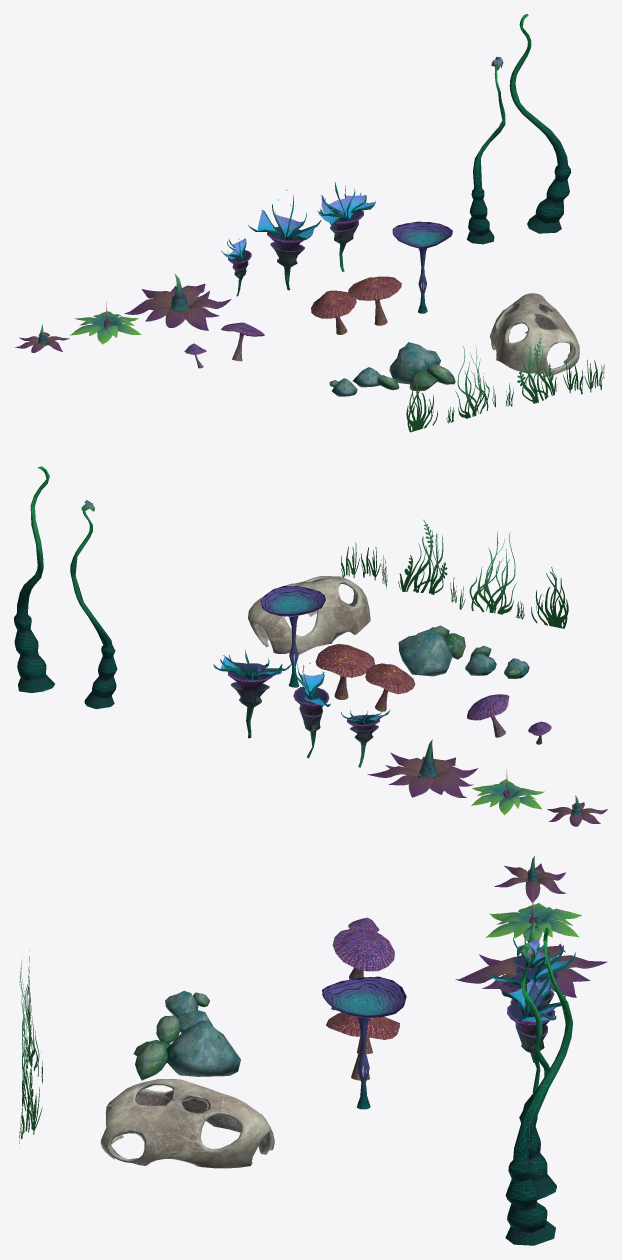
File: alienWorldExplorer.fbx
The picture shows the model from 3 angles, top to bottom: view 1: azimuth 30°, elevation 25°; view 2: azimuth 150°, elevation 25°; view 3: azimuth 270°, elevation 25°; orthographic projection. The views are drawn at different scales.
Parts seen in each view (by area): view 1: Rocks05, Plants09, Plants03, Rocks03, Plants05, Plants08, Plants06, Mushroom09, Mushroom08, Plants02, Grass03, Mushroom07 (+6 smaller); view 2: Rocks05, Plants09, Plants03, Rocks03, Plants08, Mushroom09, Plants06, Mushroom08, Plants05, Grass03, Grass02, Plants02 (+7 smaller); view 3: Rocks05, Plants09, Rocks03, Mushroom09, Plants06, Plants03, Mushroom04, Plants02, Plants08, Mushroom08, Plants01, Plants05 (+5 smaller).
Boxes of the visible parts, left/top/right/bottom form: Rocks05: left=489, top=293, right=579, bottom=376; Plants09: left=509, top=14, right=571, bottom=233; Plants03: left=124, top=273, right=231, bottom=330; Rocks03: left=389, top=342, right=455, bottom=390; Plants05: left=248, top=190, right=321, bottom=290; Plants08: left=467, top=57, right=505, bottom=244; Plants06: left=317, top=182, right=375, bottom=271; Mushroom09: left=392, top=221, right=452, bottom=313; Mushroom08: left=348, top=276, right=401, bottom=325; Plants02: left=70, top=302, right=141, bottom=344; Grass03: left=505, top=333, right=557, bottom=406; Mushroom07: left=311, top=290, right=356, bottom=334; Rocks05: left=248, top=576, right=370, bottom=654; Plants09: left=14, top=466, right=54, bottom=692; Plants03: left=367, top=739, right=477, bottom=797; Rocks03: left=398, top=625, right=465, bottom=676; Plants08: left=70, top=500, right=117, bottom=709; Mushroom09: left=260, top=586, right=325, bottom=687; Plants06: left=213, top=649, right=291, bottom=738; Mushroom08: left=315, top=644, right=374, bottom=699; Plants05: left=293, top=646, right=330, bottom=758; Grass03: left=398, top=519, right=456, bottom=602; Grass02: left=459, top=531, right=524, bottom=619; Plants02: left=471, top=769, right=544, bottom=814; Rocks05: left=100, top=1079, right=274, bottom=1168; Plants09: left=505, top=927, right=572, bottom=1245; Rocks03: left=133, top=1020, right=240, bottom=1080; Mushroom09: left=322, top=976, right=406, bottom=1109; Plants06: left=498, top=971, right=565, bottom=1092; Plants03: left=455, top=920, right=607, bottom=997; Mushroom04: left=332, top=928, right=394, bottom=979; Plants02: left=485, top=890, right=581, bottom=941; Plants08: left=517, top=943, right=556, bottom=1199; Mushroom08: left=326, top=1012, right=399, bottom=1080; Plants01: left=494, top=856, right=566, bottom=902; Plants05: left=485, top=915, right=575, bottom=1062.
Bounding box in the file's own units: 2358 × 905 × 1559.
